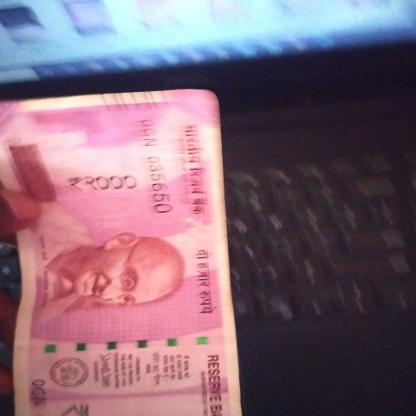New2000Front: (0, 102, 237, 416)
